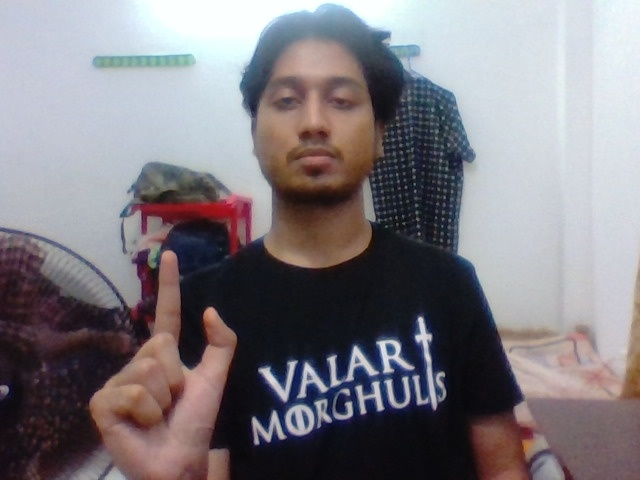J: (112, 234, 239, 449)
